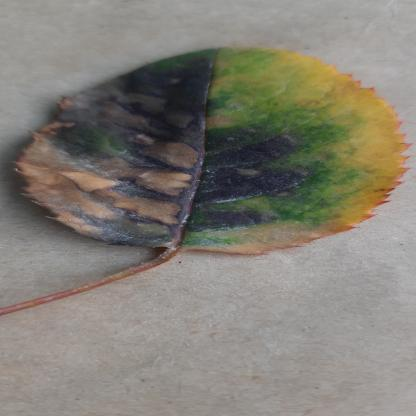downy-mildew: (9, 45, 410, 255)
